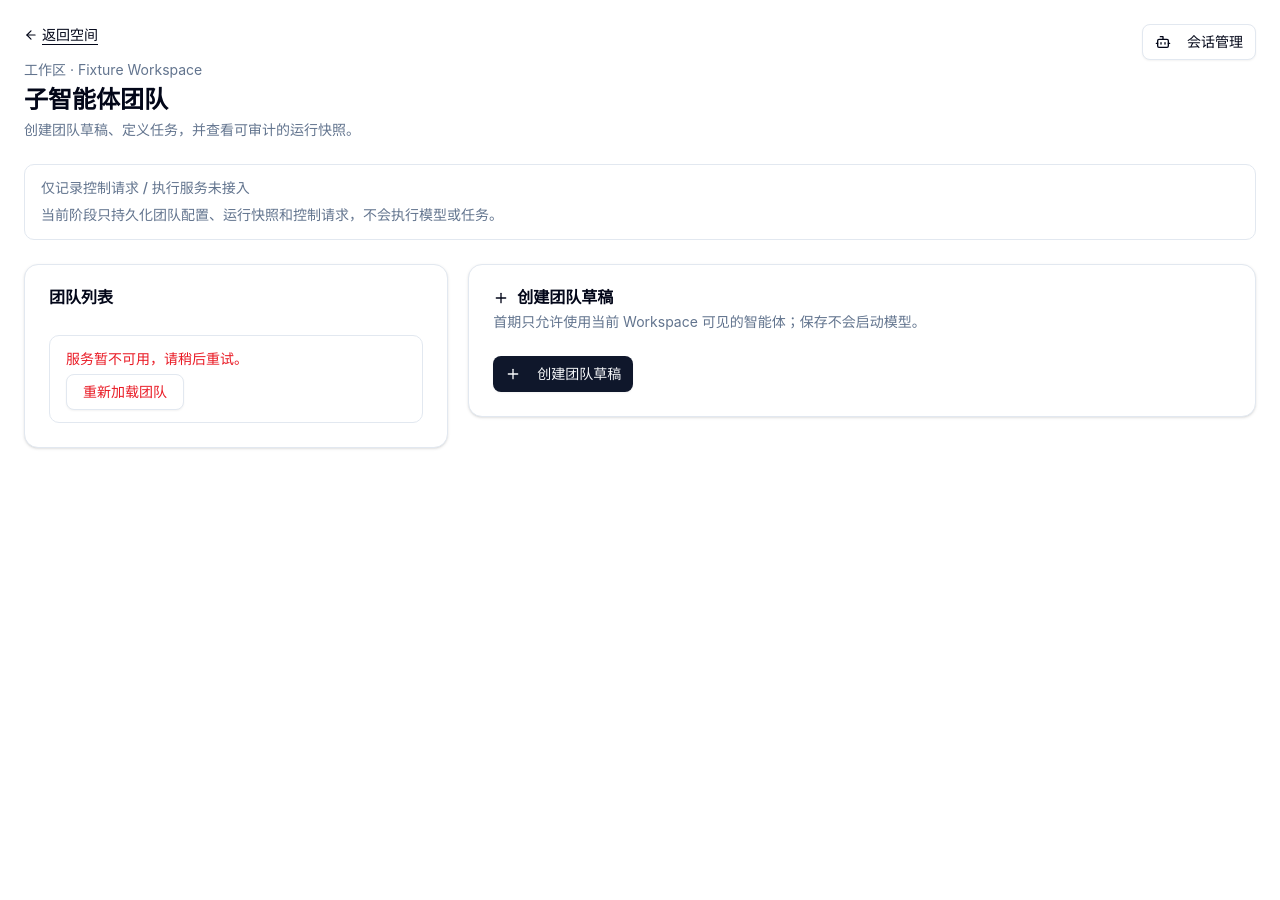
Scenario: F27b team control UI with fixture APIs › distinguishes list errors from an empty list and retries without a mutation
The width and height of the screenshot is (1280, 900).
Expected: the message shows "服务暂不可用，请稍后重试。", [66, 350, 248, 366]
Click the button "重新加载团队" at (125, 392), box [66, 374, 184, 410]
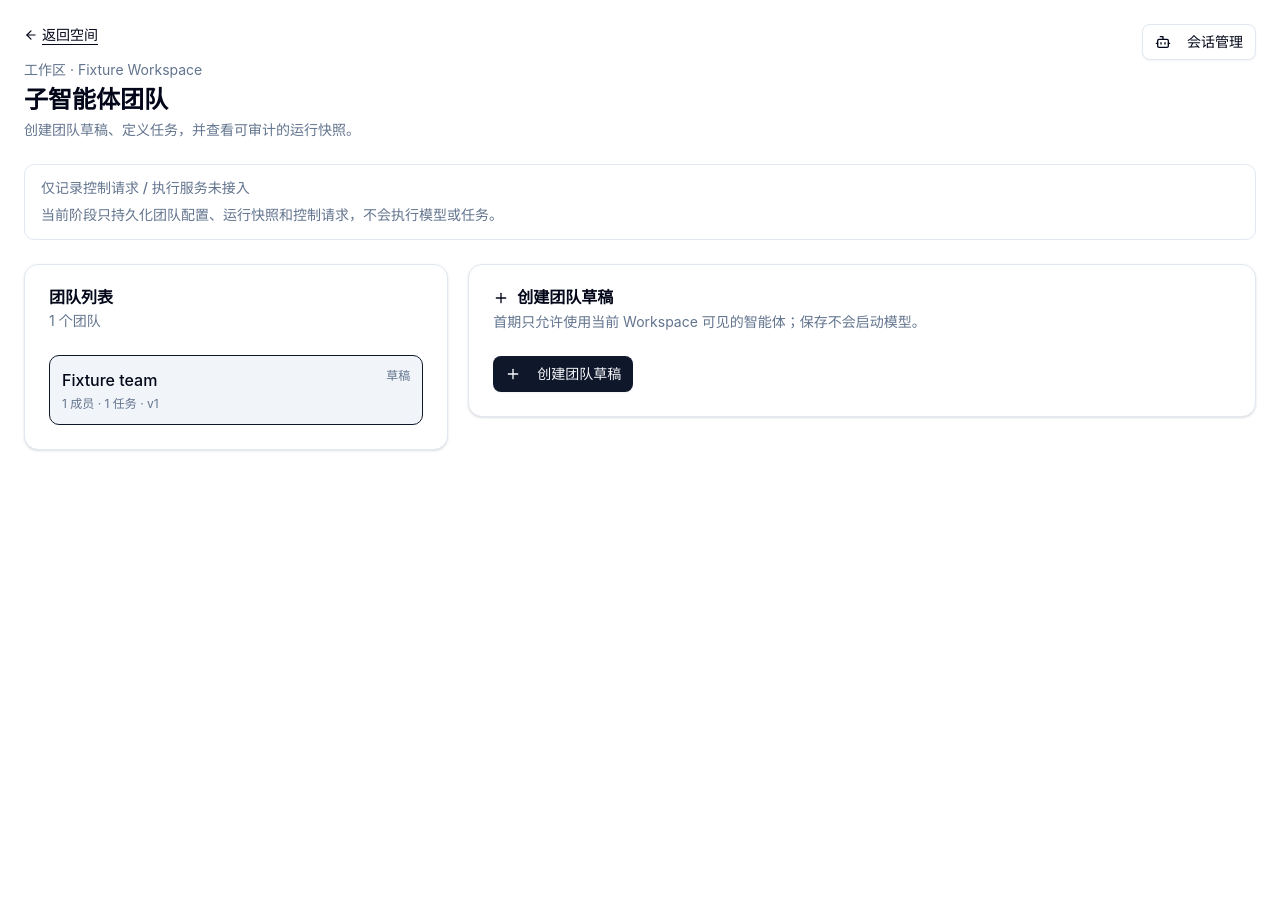
Click the button "Fixture team 草稿 1 成员 · 1 任务 · v1" at (110, 380), box [49, 354, 423, 424]
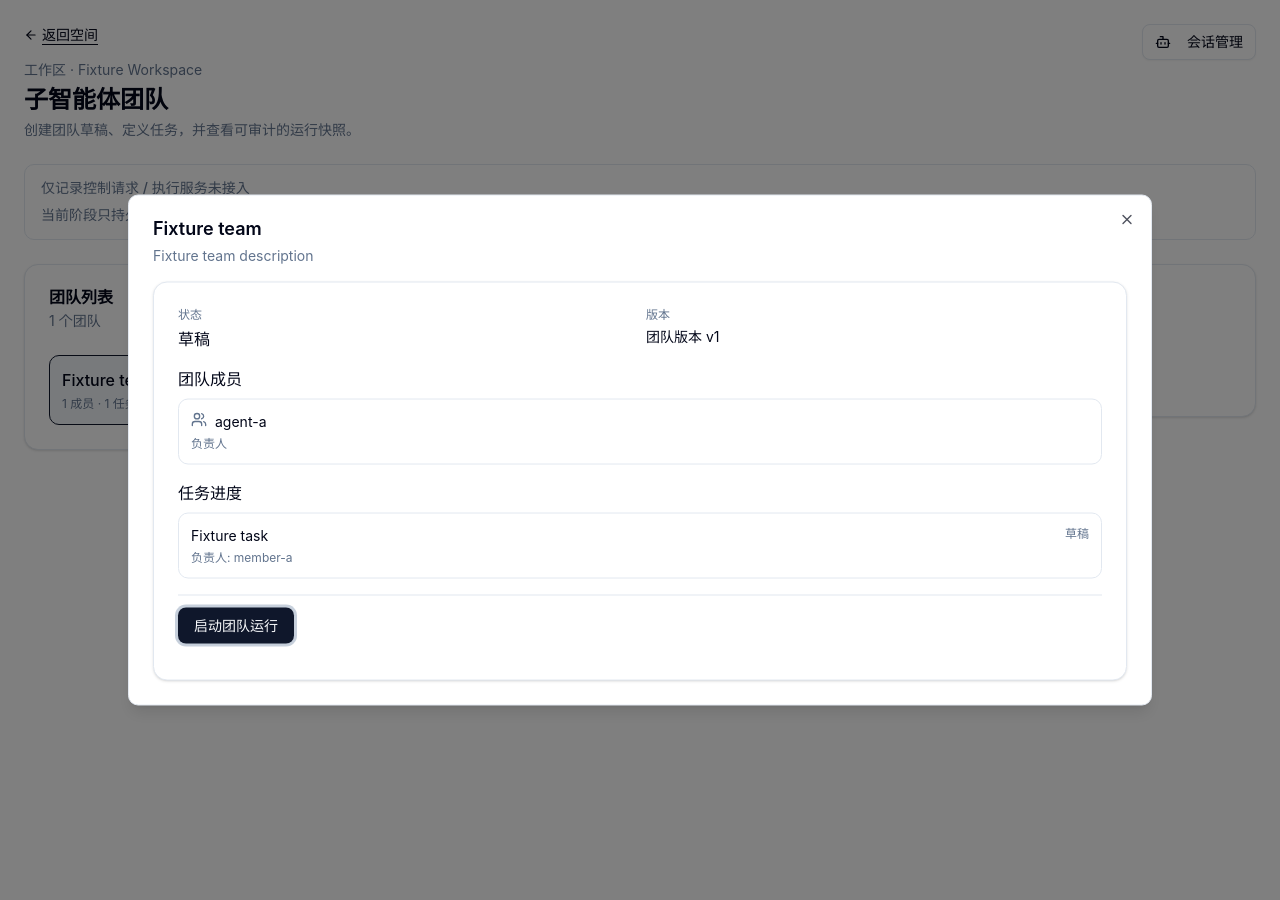
Now the button "启动团队运行" is enabled, box [178, 608, 294, 644]
